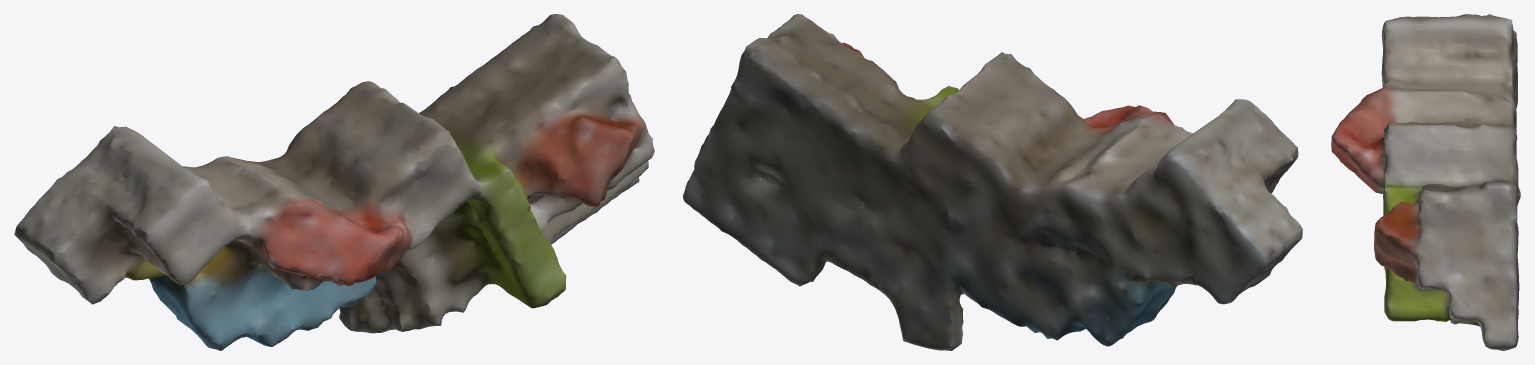
The model's file is blocks.glb.
The picture shows the model from 3 angles, left to right: view 1: azimuth 30°, elevation 25°; view 2: azimuth 150°, elevation 25°; view 3: azimuth 270°, elevation 25°; orthographic projection. The views are drawn at different scales.
Size of the model in its own units: 0.9926 by 0.417 by 0.3412.
